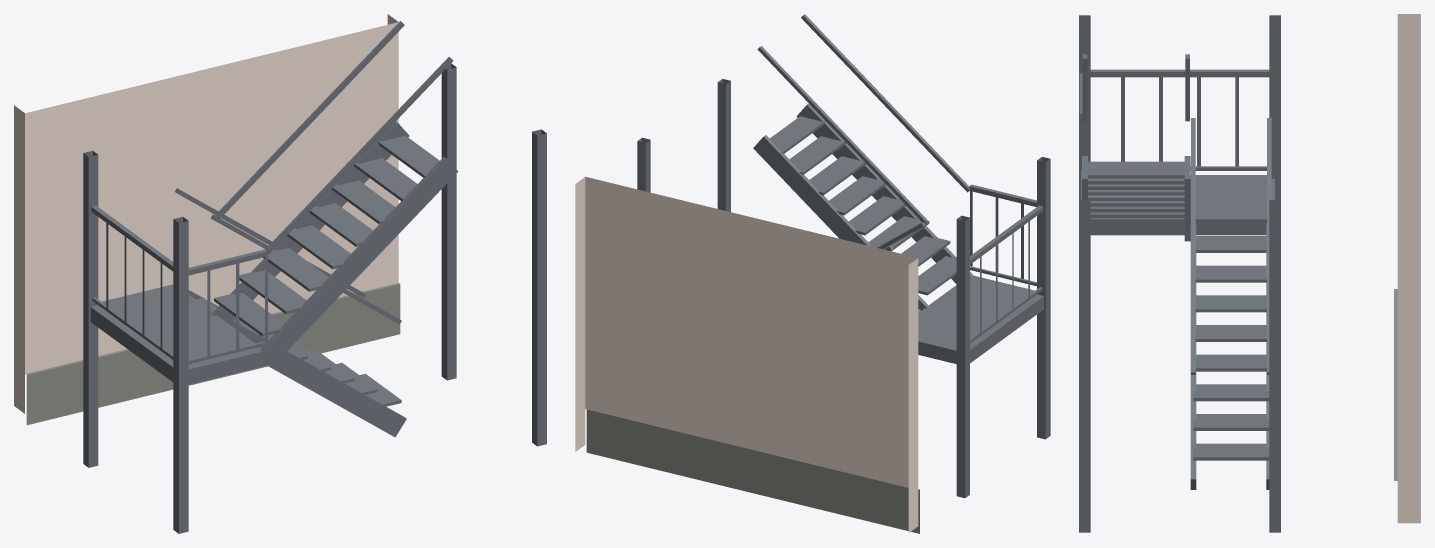
The model's file is base-stair.fbx.
3 renders of one model, left to right at view 1: azimuth 30°, elevation 25°; view 2: azimuth 150°, elevation 25°; view 3: azimuth 270°, elevation 25°, orthographic. The views are drawn at different scales.
Parts seen in each view (by area): view 1: a2001/200/base-stair; view 2: a2001/200/base-stair; view 3: a2001/200/base-stair.
Part boxes in pixels (<box>): a2001/200/base-stair: <box>14,14,546,533</box>; a2001/200/base-stair: <box>575,14,1050,533</box>; a2001/200/base-stair: <box>1079,14,1420,532</box>.
Bounding box in the file's own units: 3.9 × 4.15 × 2.93.
